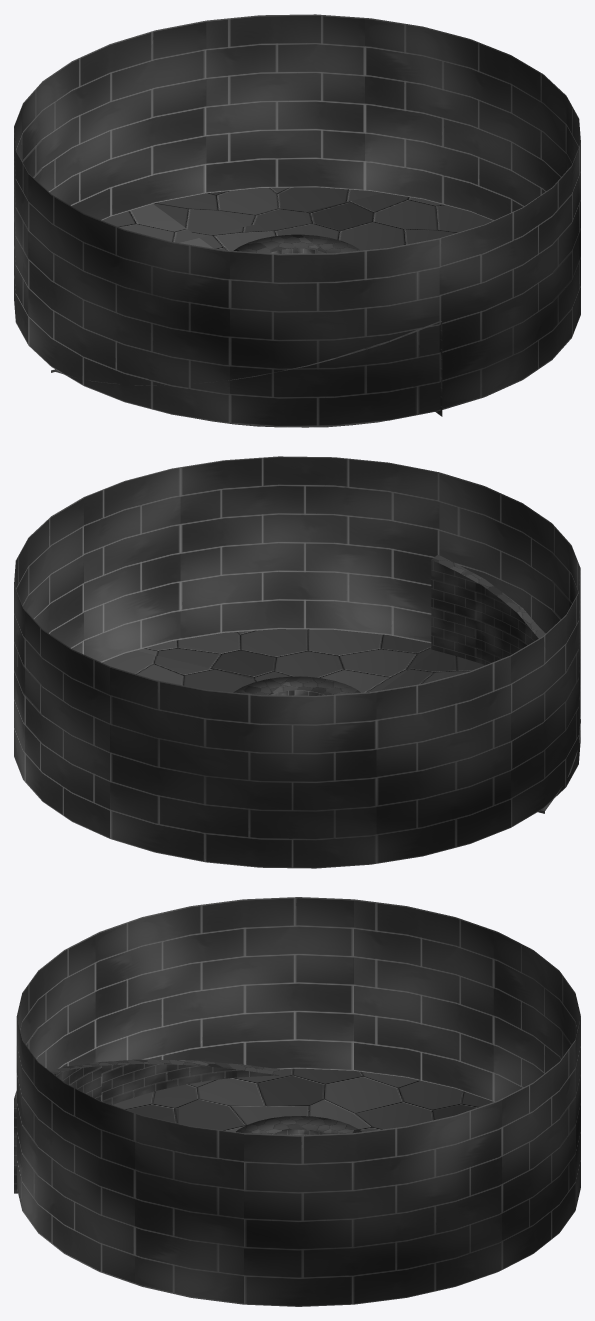
Rendered from BossSanctum.dae.
3 views of the same model, one above another, from view 1: azimuth 30°, elevation 25°; view 2: azimuth 150°, elevation 25°; view 3: azimuth 270°, elevation 25° (orthographic).
Visible parts, largest first — view 1: InnerSanctumOuter, InnerSanctumPit, InnerSanctumSlope; view 2: InnerSanctumOuter, InnerSanctumSlope, InnerSanctumPit; view 3: InnerSanctumOuter, InnerSanctumSlope, InnerSanctumPit.
Boxes of the visible parts, <box> form: InnerSanctumOuter: <box>14,14,580,426</box>; InnerSanctumPit: <box>233,234,360,253</box>; InnerSanctumSlope: <box>51,320,442,427</box>; InnerSanctumOuter: <box>14,456,580,868</box>; InnerSanctumSlope: <box>431,554,580,813</box>; InnerSanctumPit: <box>233,676,360,695</box>; InnerSanctumOuter: <box>16,897,580,1306</box>; InnerSanctumSlope: <box>14,1059,280,1193</box>; InnerSanctumPit: <box>236,1116,361,1135</box>.
Size of the model in its own units: 38.14 by 38.24 by 13.15.
3 materials, 2 textured.
